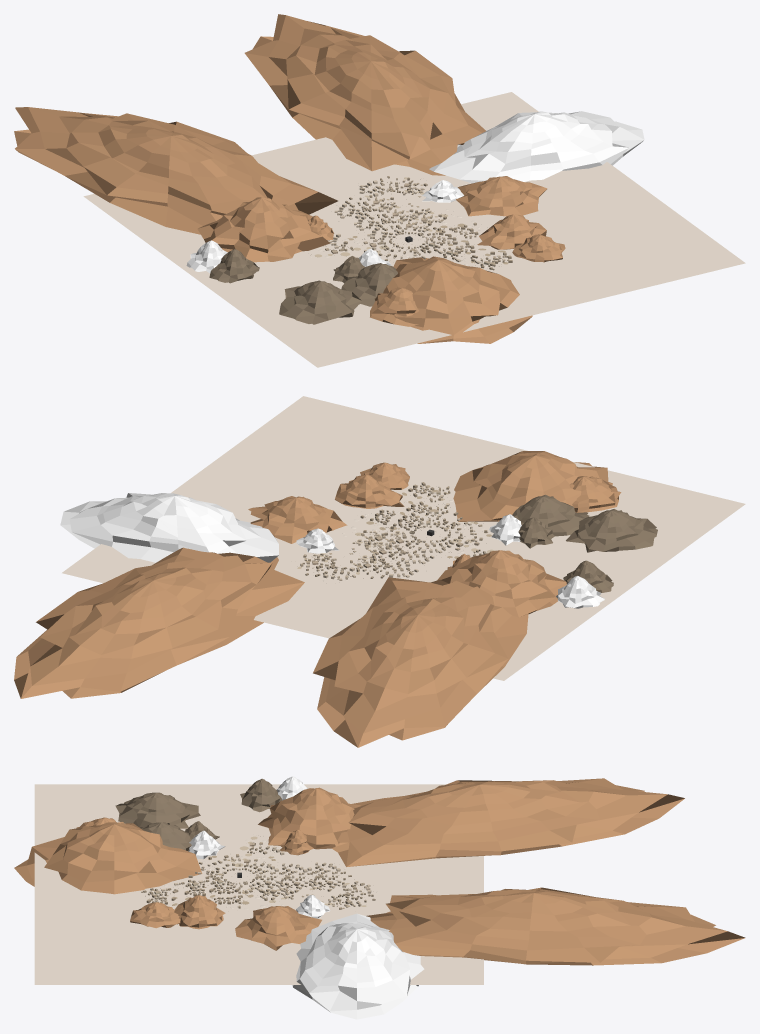
3 views of the same model, one above another, from view 1: azimuth 30°, elevation 25°; view 2: azimuth 150°, elevation 25°; view 3: azimuth 270°, elevation 25° (orthographic). The views are drawn at different scales.
Visible parts, largest first — view 1: Ground.054, Mountain_170.003, Mountain_170, Mountain_120, Mountain_160, Mountain_170.001, Mountain_100, Mountain_60.003, Mountain_130, Mountain_60.002, Mountain_140, Mountain_60.001 (+3 smaller); view 2: Ground.054, Mountain_170.003, Mountain_170, Mountain_120, Mountain_160, Mountain_170.001, Mountain_60.003, Mountain_100, Mountain_60.002, Mountain_130, Mountain_140, Mountain_60 (+5 smaller); view 3: Ground.054, Mountain_170.003, Mountain_170, Mountain_120, Mountain_160, Mountain_170.001, Mountain_100, Mountain_60.003, Mountain_130, Mountain_200, Mountain_60.001, Mountain_60.002 (+4 smaller).
Boxes of the visible parts, bbox=[...] form: Ground.054: bbox=[83, 92, 745, 367]; Mountain_170.003: bbox=[244, 14, 485, 175]; Mountain_170: bbox=[14, 107, 337, 234]; Mountain_120: bbox=[429, 111, 644, 183]; Mountain_160: bbox=[383, 256, 532, 343]; Mountain_170.001: bbox=[197, 197, 330, 262]; Mountain_100: bbox=[456, 176, 547, 216]; Mountain_60.003: bbox=[279, 280, 361, 324]; Mountain_130: bbox=[477, 214, 546, 249]; Mountain_60.002: bbox=[341, 263, 397, 306]; Mountain_140: bbox=[370, 287, 418, 326]; Mountain_60.001: bbox=[209, 249, 259, 283]; Ground.054: bbox=[62, 396, 745, 680]; Mountain_170.003: bbox=[14, 547, 304, 698]; Mountain_170: bbox=[313, 577, 528, 747]; Mountain_120: bbox=[60, 493, 278, 562]; Mountain_160: bbox=[453, 451, 612, 521]; Mountain_170.001: bbox=[437, 550, 566, 617]; Mountain_60.003: bbox=[566, 509, 657, 552]; Mountain_100: bbox=[248, 496, 347, 543]; Mountain_60.002: bbox=[512, 494, 589, 536]; Mountain_130: bbox=[335, 475, 404, 508]; Mountain_140: bbox=[569, 476, 621, 512]; Mountain_60: bbox=[556, 576, 604, 608]; Ground.054: bbox=[34, 784, 483, 984]; Mountain_170.003: bbox=[366, 887, 745, 965]; Mountain_170: bbox=[332, 778, 684, 867]; Mountain_120: bbox=[292, 913, 424, 1019]; Mountain_160: bbox=[14, 822, 202, 894]; Mountain_170.001: bbox=[258, 787, 360, 849]; Mountain_100: bbox=[235, 906, 321, 950]; Mountain_60.003: bbox=[115, 792, 200, 828]; Mountain_130: bbox=[174, 895, 225, 929]; Mountain_200: bbox=[130, 902, 180, 928]; Mountain_60.001: bbox=[240, 778, 282, 812]; Mountain_60.002: bbox=[140, 822, 191, 850].
Bounding box in the file's own units: 775 × 72.89 × 1026.
